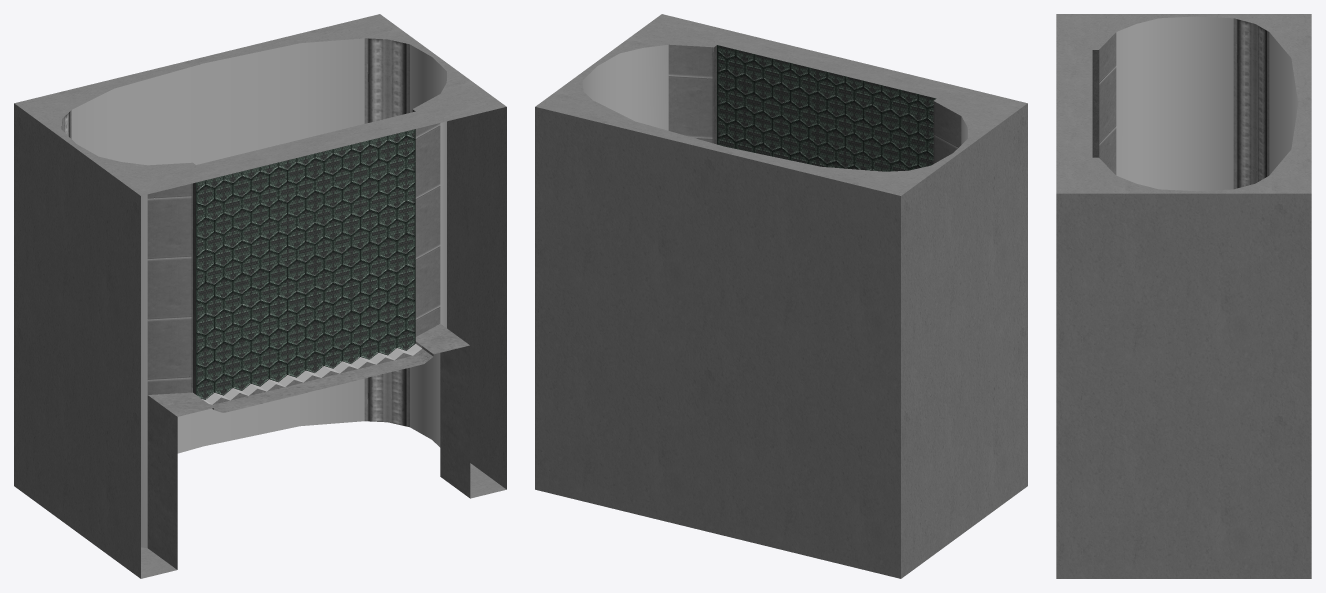
The model's file is TC_city_tunnel_straight_unfinished.fbx.
3 views of the same model, side by side, from view 1: azimuth 30°, elevation 25°; view 2: azimuth 150°, elevation 25°; view 3: azimuth 270°, elevation 25° (orthographic).
Visible parts, largest first — view 1: TC_city_tunnel_straight_unfinished; view 2: TC_city_tunnel_straight_unfinished; view 3: TC_city_tunnel_straight_unfinished.
Boxes of the visible parts, x1,y1,x2,y2 form: TC_city_tunnel_straight_unfinished: [14, 14, 506, 578]; TC_city_tunnel_straight_unfinished: [535, 14, 1027, 578]; TC_city_tunnel_straight_unfinished: [1056, 14, 1311, 578].
Size of the model in its own units: 10 by 10 by 6.
